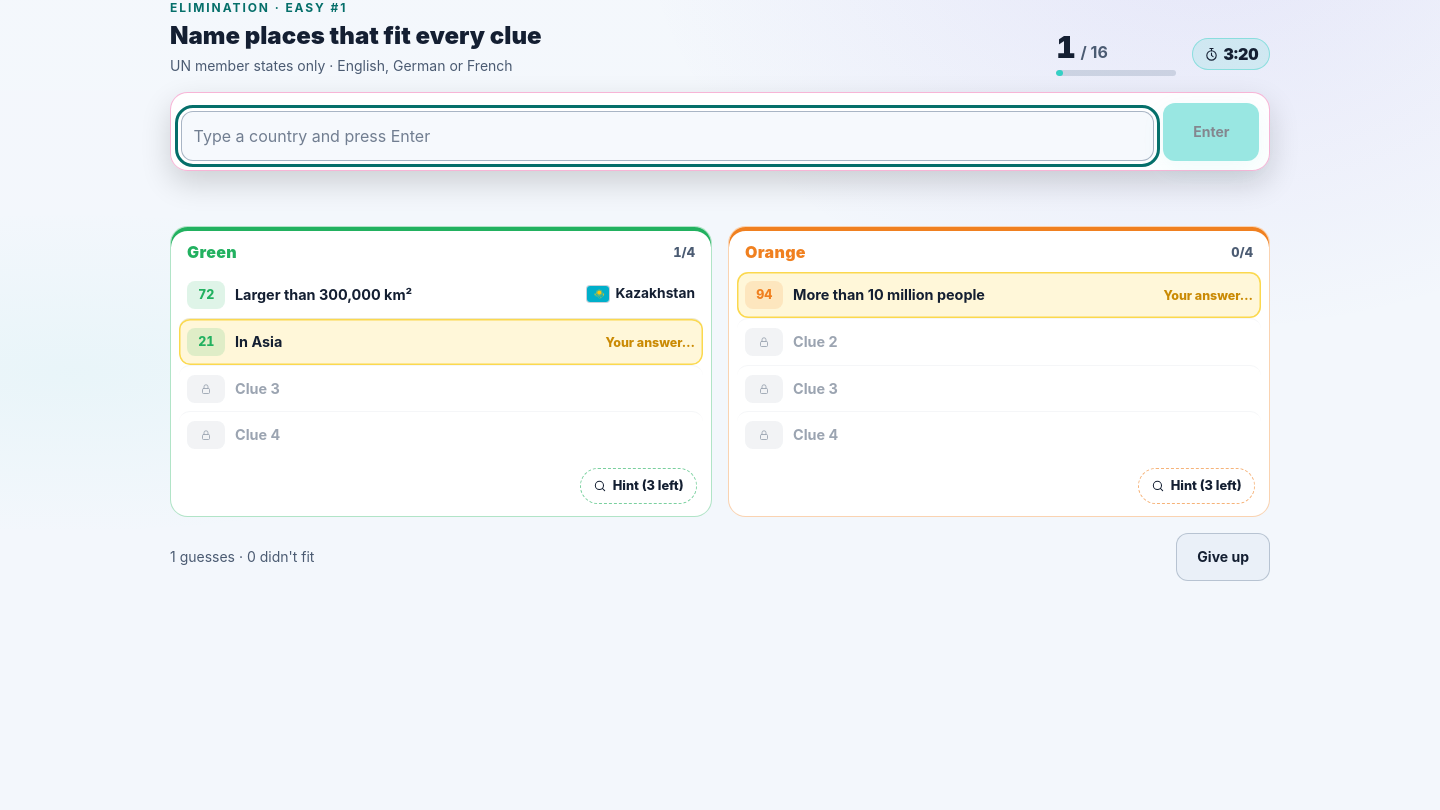
Scenario: explains a refused hint in plain English
Step 1. Click the button with aria-label "Use a hint for Green" → (638, 486), box [580,468,697,504]
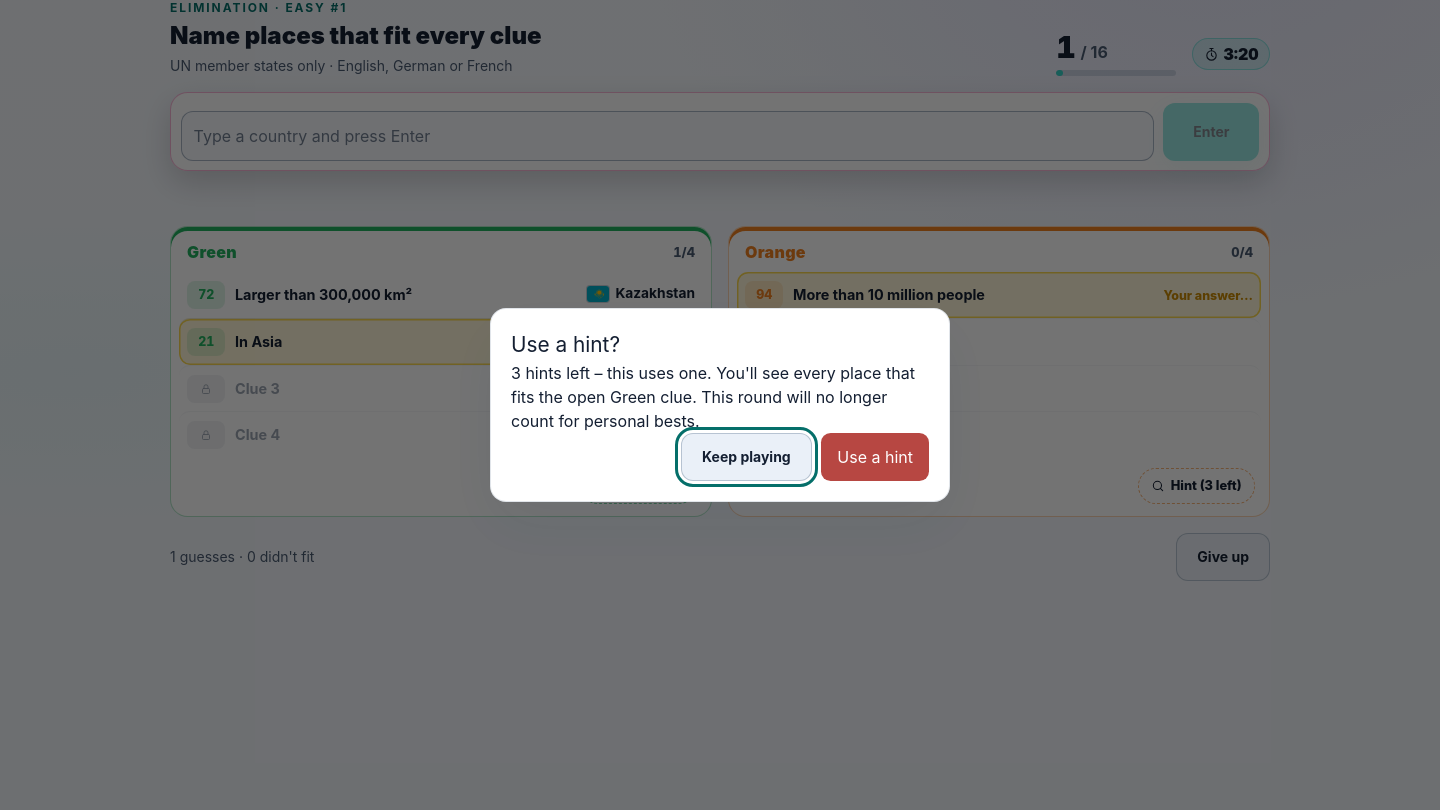
Step 2. Click the button "Use a hint" → (875, 457), box [821,433,929,481]
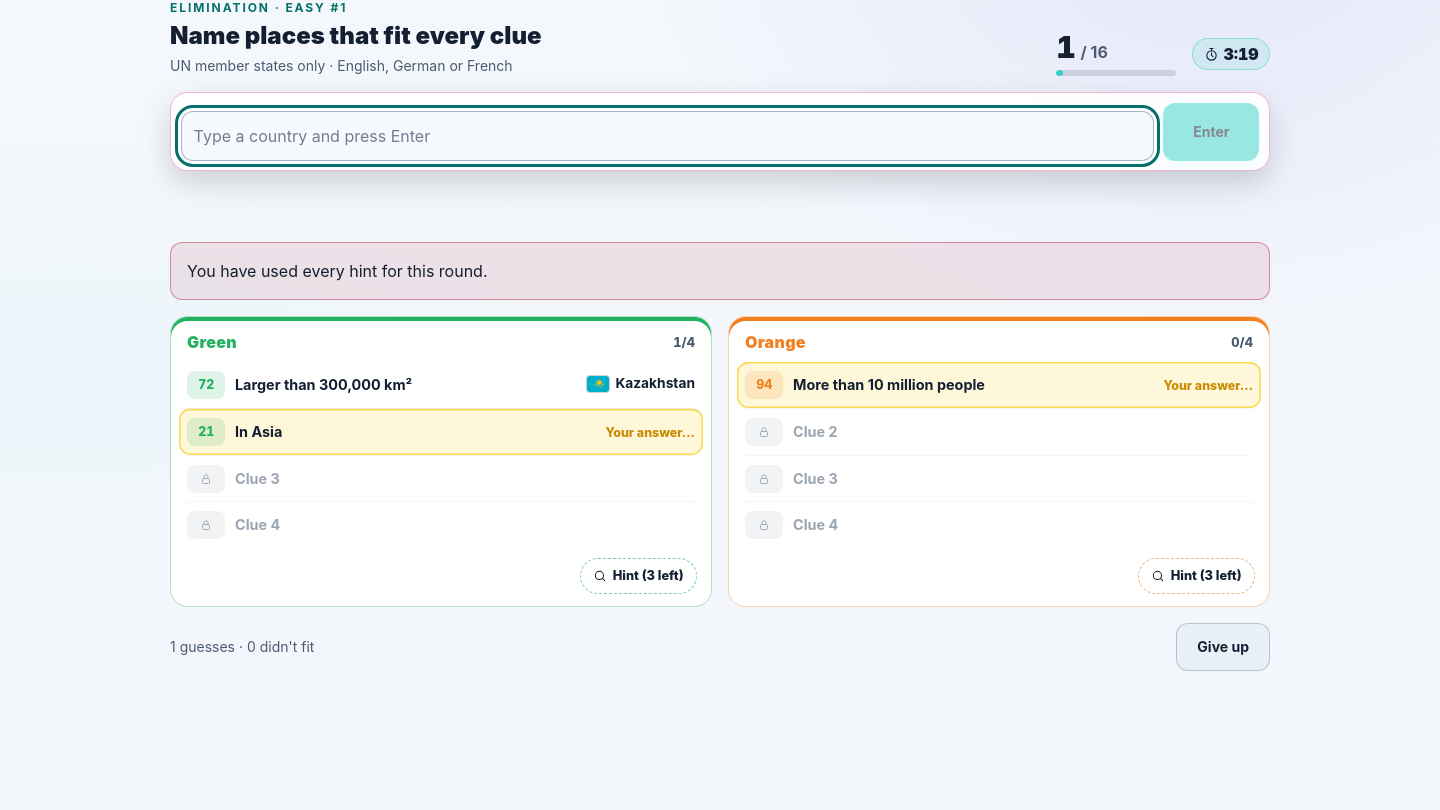
Expected: the message "You have used every hint for this round." is shown, [170,242,1270,300]
